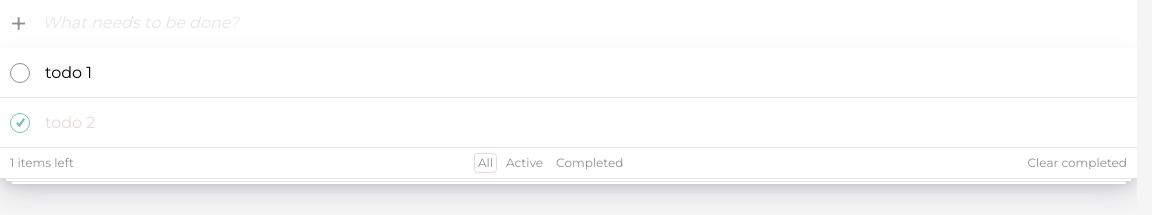
Test: Todos Component › Clears completed todos
Click the button "Clear completed". click: (1077, 163)
box: [1028,154,1127,172]
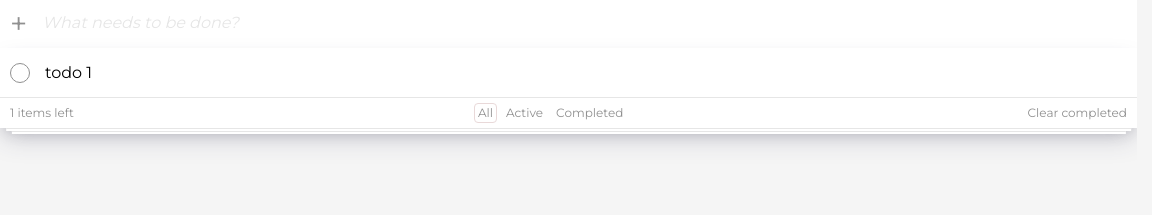
Expected: the list item "todo 2" is gone
